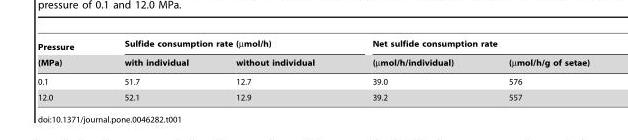table: (36, 36, 589, 101)
table column: (342, 36, 480, 101), (211, 36, 342, 101), (98, 36, 211, 101), (480, 36, 589, 101), (36, 36, 98, 101)
table column header: (36, 36, 589, 72)
table row: (36, 53, 589, 72), (36, 36, 589, 53), (36, 72, 589, 89), (36, 89, 589, 101)
table spanning cell: (342, 36, 589, 53), (98, 36, 342, 53), (36, 36, 98, 72)
